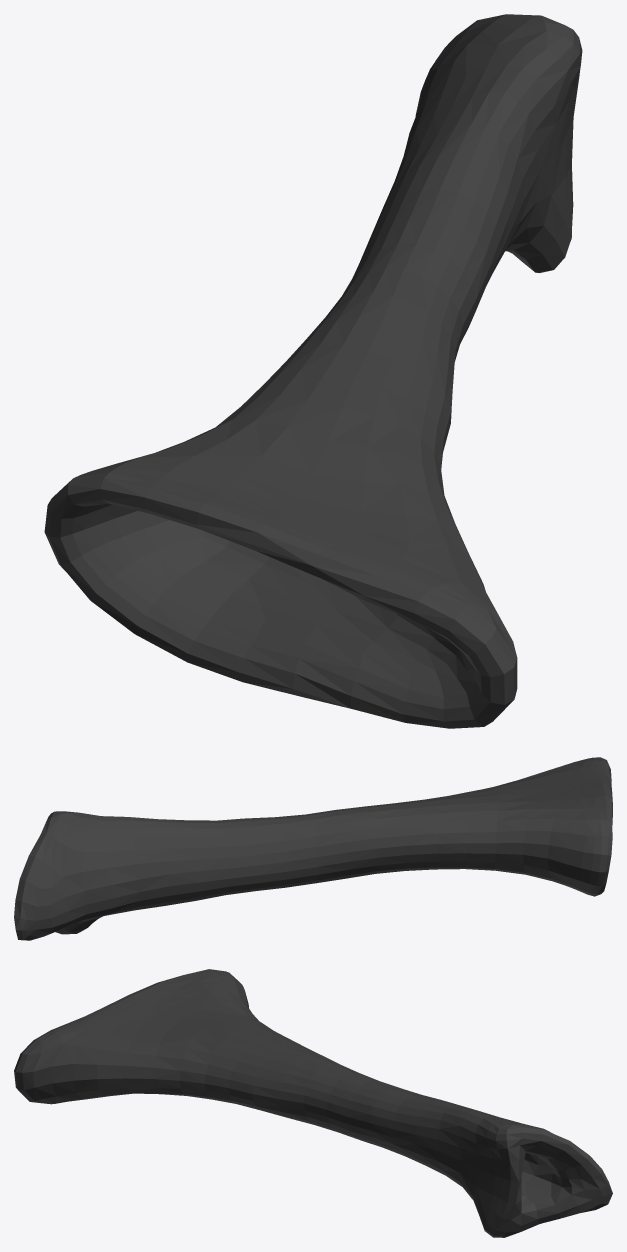
The model's file is CANALICULUS_cochlear_L.glb.
3 views of the same model, one above another, from view 1: azimuth 30°, elevation 25°; view 2: azimuth 150°, elevation 25°; view 3: azimuth 270°, elevation 25° (orthographic). The views are drawn at different scales.
Parts seen in each view (by area): view 1: CANALICULUS_cochlear_L; view 2: CANALICULUS_cochlear_L; view 3: CANALICULUS_cochlear_L.
Boxes of the visible parts, x1,y1,x2,y2 form: CANALICULUS_cochlear_L: [44, 14, 582, 728]; CANALICULUS_cochlear_L: [14, 757, 612, 940]; CANALICULUS_cochlear_L: [14, 969, 612, 1237].
Size of the model in its own units: 0.8999 by 0.2478 by 1.16.
1 material, 1 textured.
